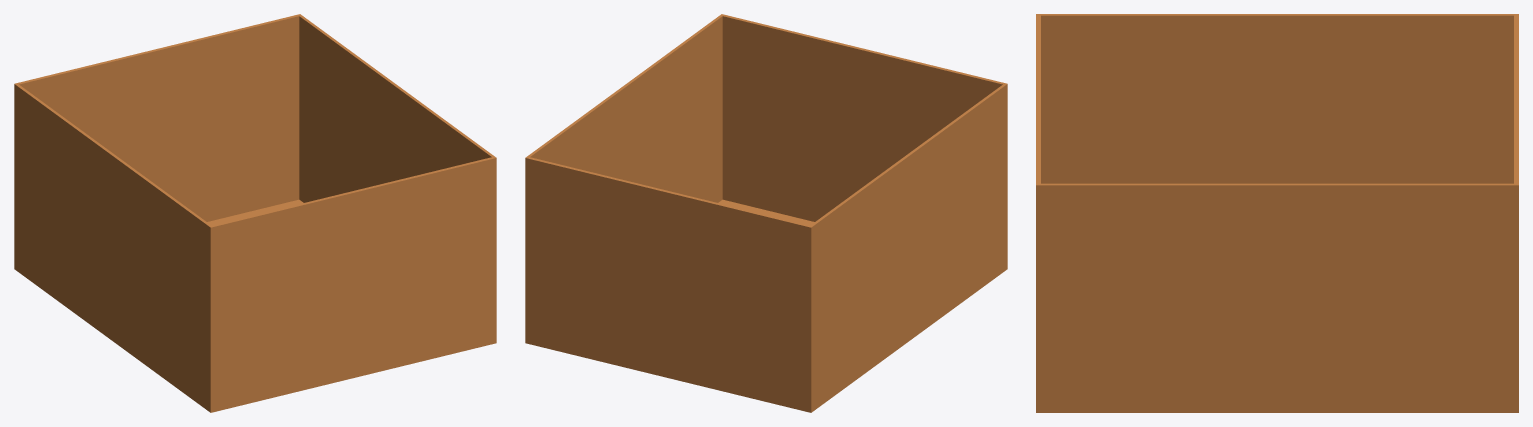
The model's file is thinkpadBox.dae.
The picture shows the model from 3 angles, left to right: view 1: azimuth 30°, elevation 25°; view 2: azimuth 150°, elevation 25°; view 3: azimuth 270°, elevation 25°; orthographic projection. The views are drawn at different scales.
Visible parts, largest first — view 1: Cube; view 2: Cube; view 3: Cube.
Boxes of the visible parts, bbox=[...] form: Cube: bbox=[14, 14, 496, 412]; Cube: bbox=[525, 14, 1007, 412]; Cube: bbox=[1036, 14, 1518, 412].
Size of the model in its own units: 0.21 by 0.25 by 0.13.
